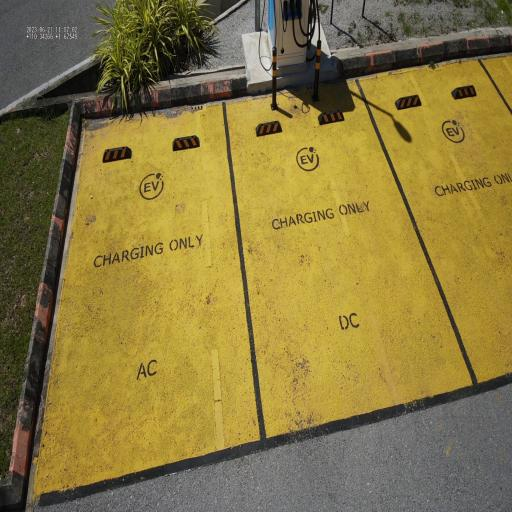Empty: (22, 79, 270, 512), (219, 70, 489, 449)
